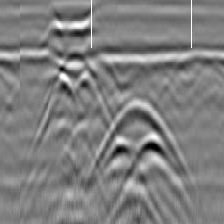Utility: (97, 98, 183, 212), (52, 56, 96, 114)
